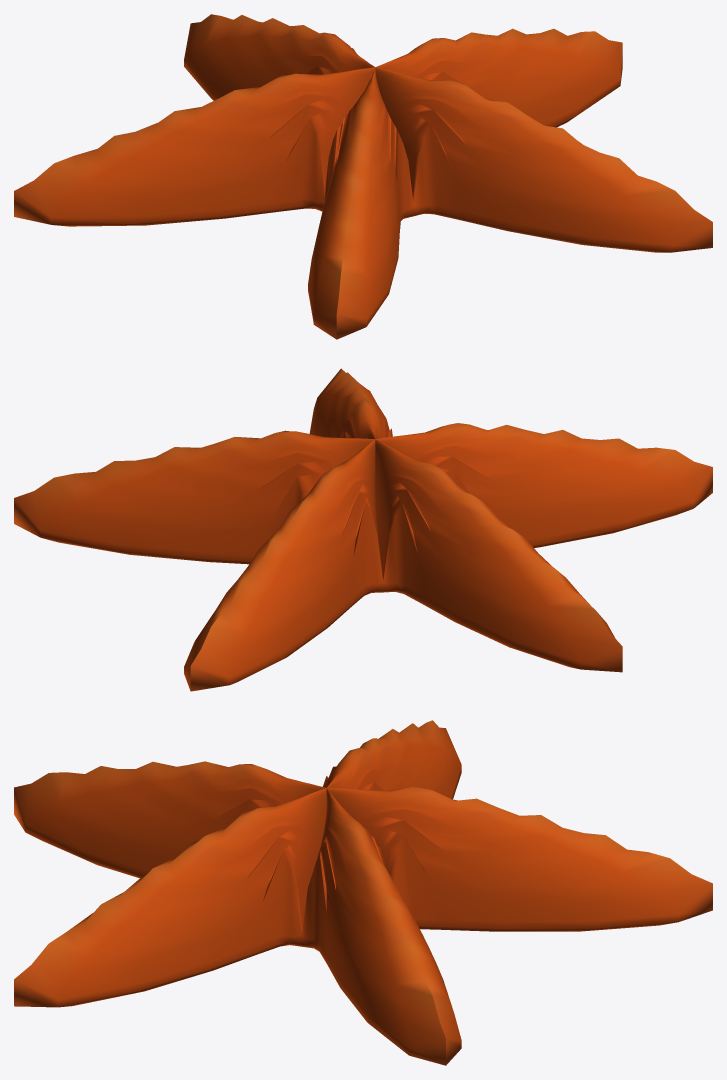
File: prop-starfish.glb
3 views of the same model, one above another, from view 1: azimuth 30°, elevation 25°; view 2: azimuth 150°, elevation 25°; view 3: azimuth 270°, elevation 25° (orthographic). The views are drawn at different scales.
Visible parts, largest first — view 1: body; view 2: body; view 3: body.
Part boxes in pixels (left/top/right/bottom): body: left=14, top=14, right=712, bottom=339; body: left=14, top=368, right=712, bottom=691; body: left=14, top=720, right=712, bottom=1065.
Size of the model in its own units: 0.0495 by 0.00946 by 0.047.
